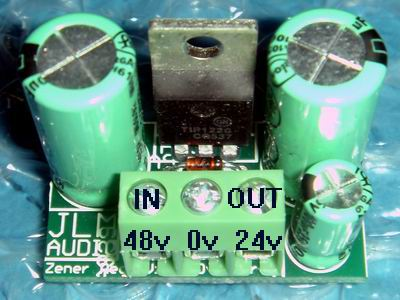capacitor: (20, 13, 148, 210), (265, 7, 387, 161), (287, 159, 375, 270)
